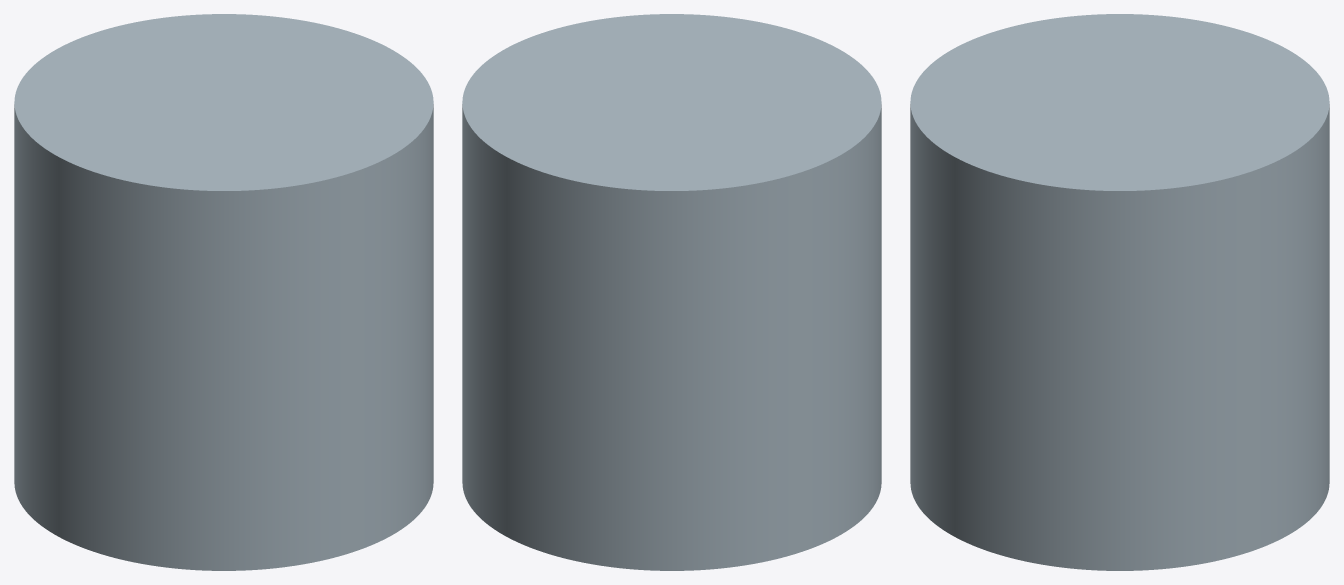
3 views of the same model, side by side, from view 1: azimuth 30°, elevation 25°; view 2: azimuth 150°, elevation 25°; view 3: azimuth 270°, elevation 25° (orthographic).
Parts seen in each view (by area): view 1: cylinder_4_#9cbbd1.STEP; view 2: cylinder_4_#9cbbd1.STEP; view 3: cylinder_4_#9cbbd1.STEP.
Boxes of the visible parts, x1,y1,x2,y2 form: cylinder_4_#9cbbd1.STEP: (14, 14, 433, 570); cylinder_4_#9cbbd1.STEP: (462, 14, 881, 570); cylinder_4_#9cbbd1.STEP: (910, 14, 1329, 570).
Size of the model in its own units: 0.04 by 0.04 by 0.04.
